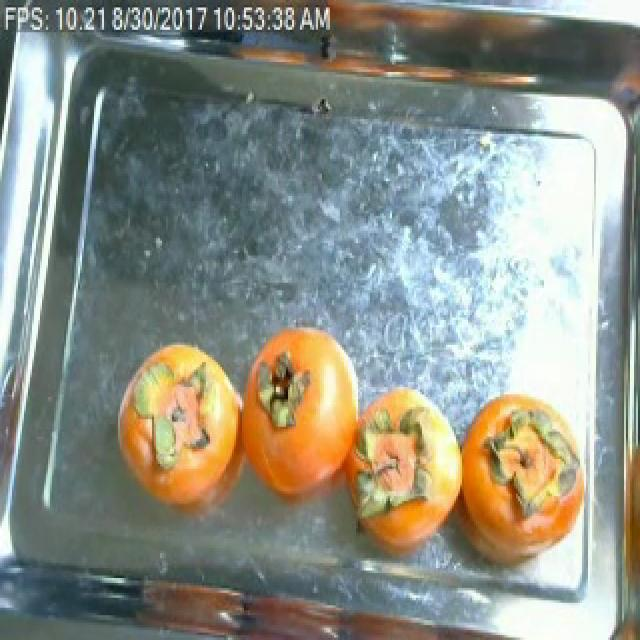Fruit: (106, 332, 250, 492), (242, 310, 368, 454)
